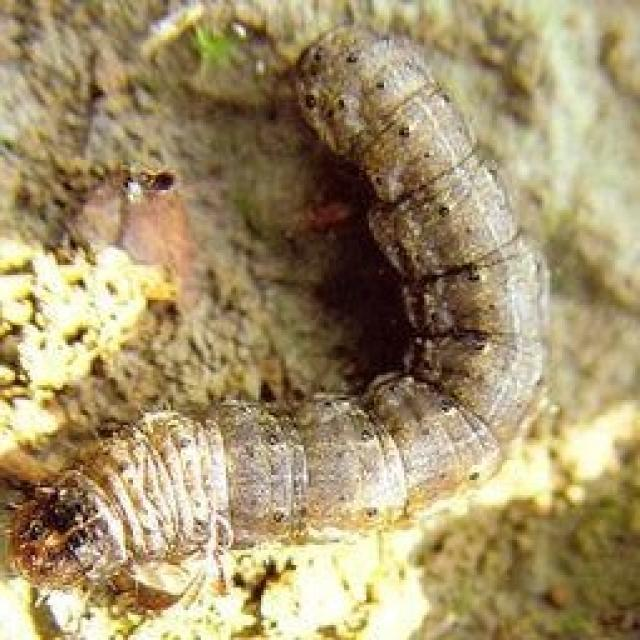black cutworm: (9, 25, 561, 617)
